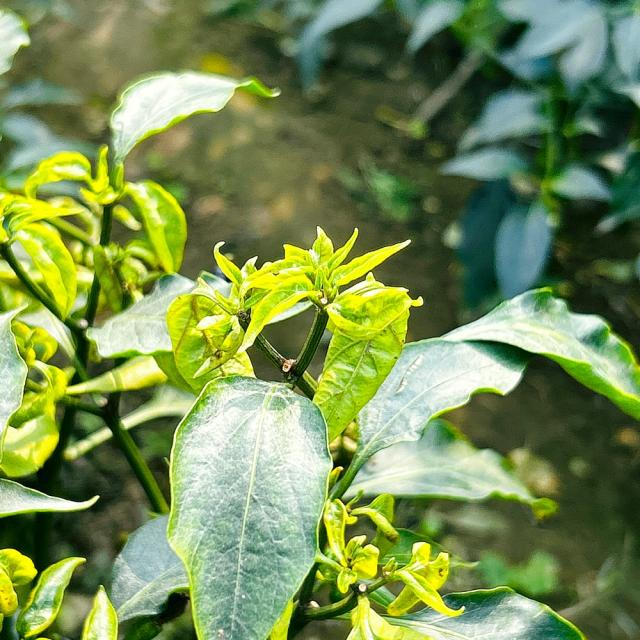Chilli_Leaf_Curl: (0, 67, 638, 638), (331, 285, 638, 507), (165, 224, 424, 445), (164, 373, 333, 638), (106, 68, 282, 167), (366, 584, 586, 639), (14, 554, 86, 638)
